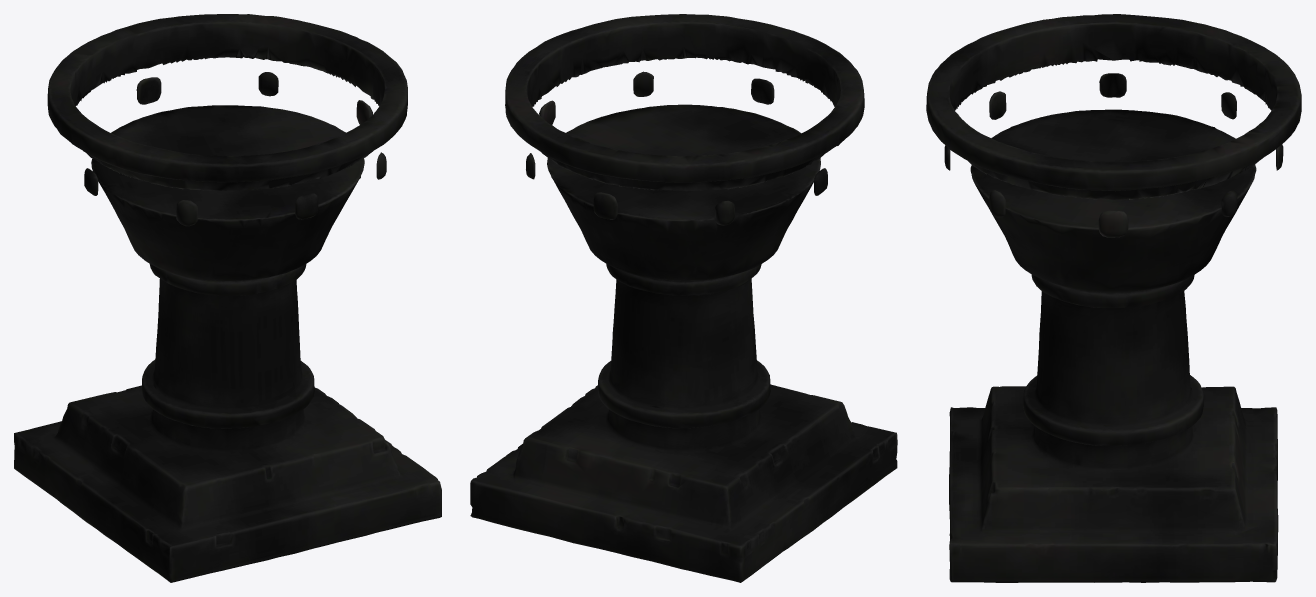
File: brazier-basalt.glb
3 views of the same model, side by side, from view 1: azimuth 30°, elevation 25°; view 2: azimuth 150°, elevation 25°; view 3: azimuth 270°, elevation 25° (orthographic). The views are drawn at different scales.
Parts seen in each view (by area): view 1: brazier; view 2: brazier; view 3: brazier.
Part boxes in pixels (<box>): brazier: <box>14,14,441,582</box>; brazier: <box>470,14,897,582</box>; brazier: <box>926,14,1301,582</box>.
Size of the model in its own units: 0.7119 by 0.8838 by 0.7105.
Materials: 1 (1 with a texture image).
